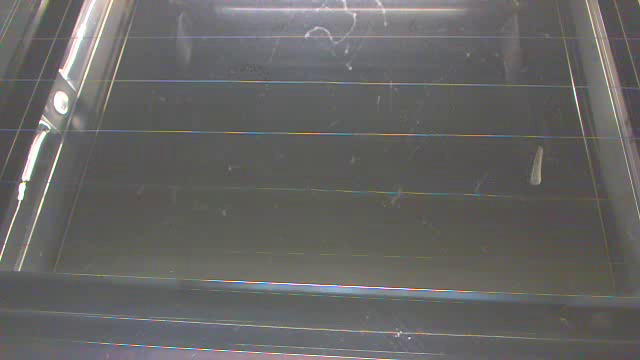alpha: (529, 144, 543, 186)
